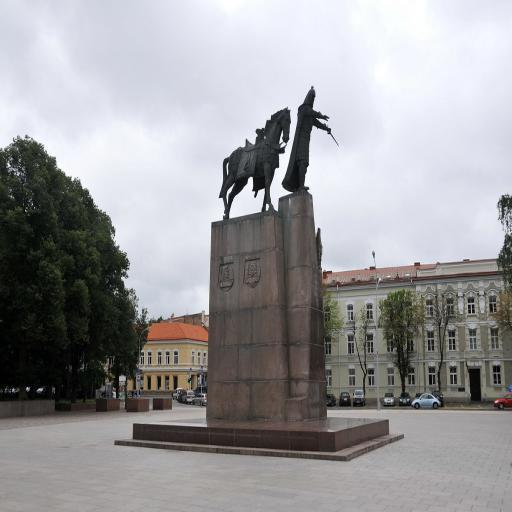horse: (220, 108, 291, 217)
